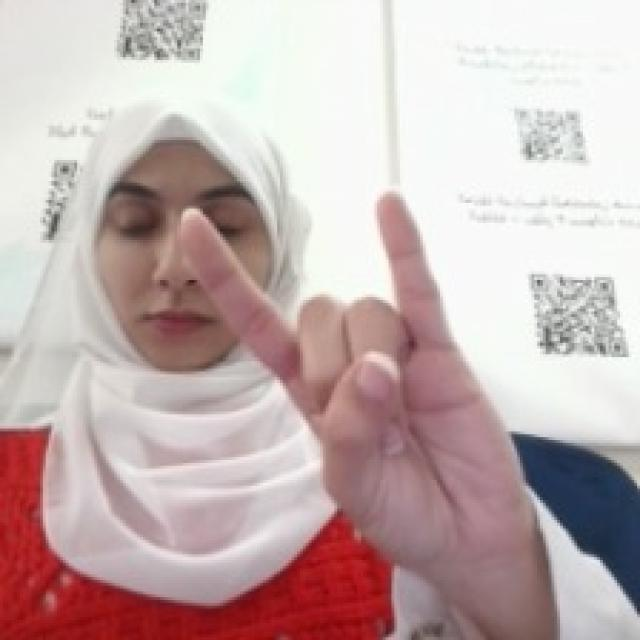No: (186, 180, 520, 566)
